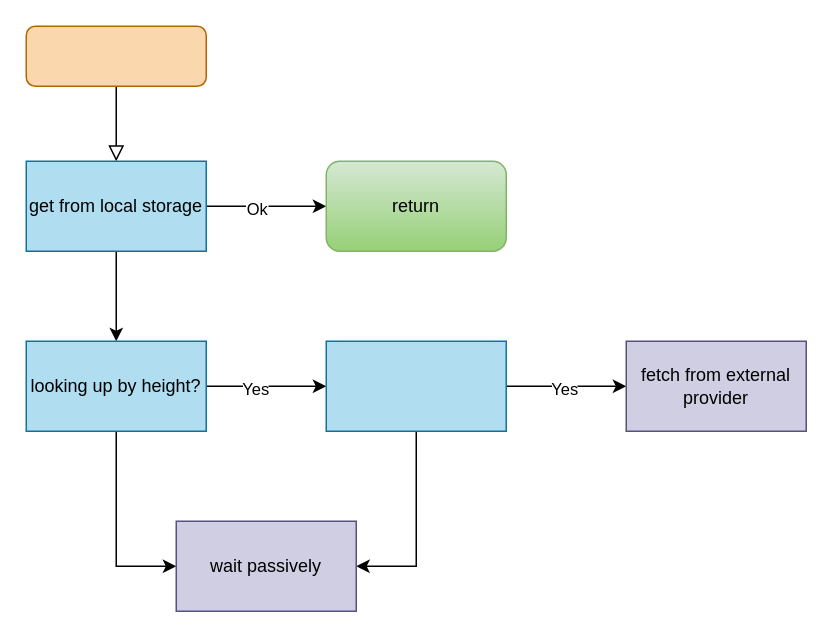
The diagram is 833 pixels wide and 638 high, and some of its shapes have lost their labels. The shapes that lost their labels are listed below. From the top down, each one's box as (x1, y1, x2, y2) in pixels, then its label:
(25, 25, 206, 86): fetch(LeafId)
(325, 340, 506, 431): requested height < current height?
